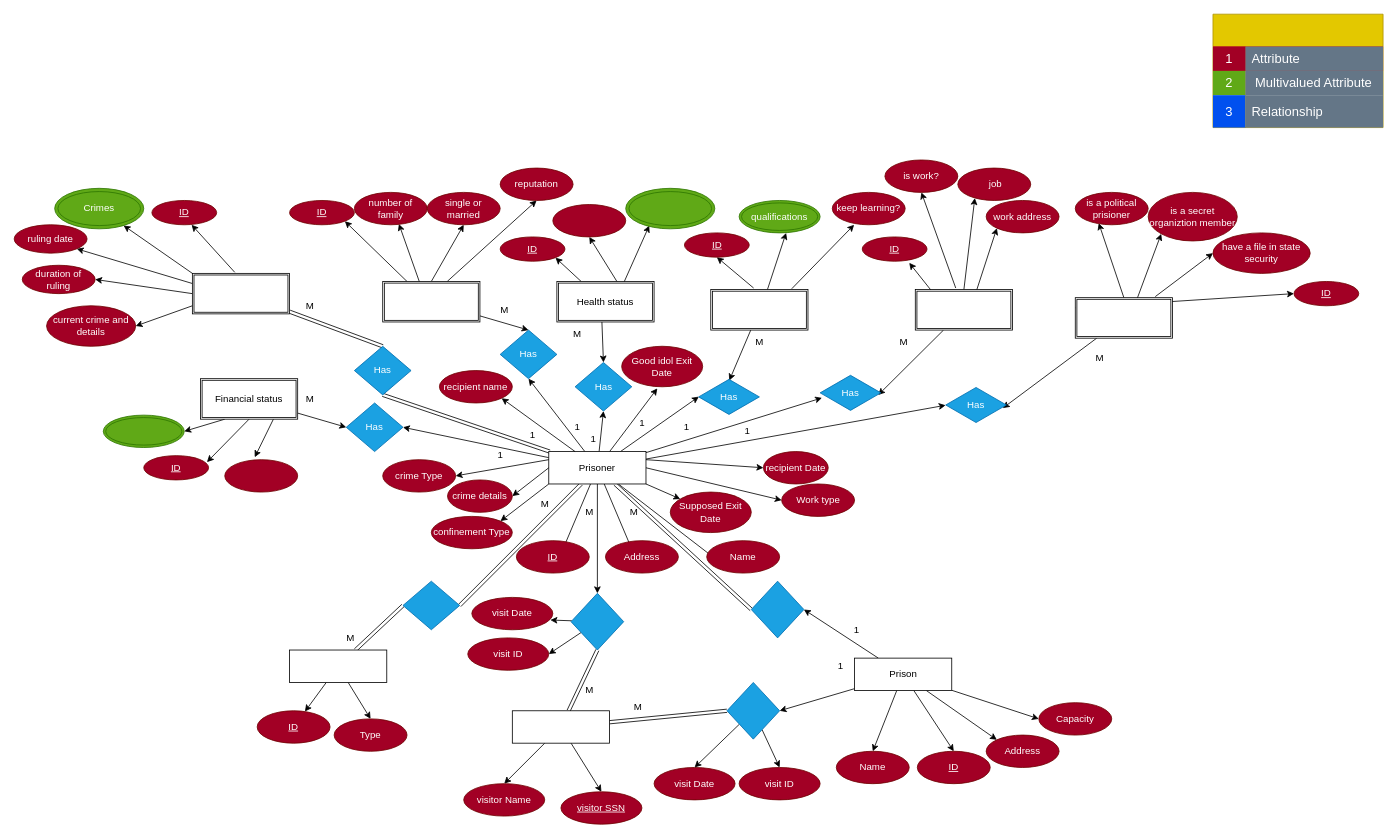
The diagram is 1397 pixels wide and 838 high, and some of its shapes have lost their labels. The box of each missing label's shape, as (x1, y1, x2, y2) in pixels:
commit: (402, 580, 460, 630)
Crime: (289, 649, 387, 682)
criminal status: (192, 273, 290, 314)
current status: (552, 204, 626, 237)
Describe: (1212, 13, 1383, 128)
exist: (750, 580, 804, 638)
Financial class: (224, 459, 298, 492)
go: (726, 682, 780, 739)
old diseases: (625, 188, 715, 229)
Political status: (1074, 297, 1172, 338)
proffesional status: (914, 289, 1013, 330)
Scientific status: (710, 289, 808, 330)
social status: (382, 281, 480, 322)
Sources of wealth: (102, 414, 184, 448)
visit: (570, 593, 624, 650)
Visitor: (512, 710, 610, 743)
